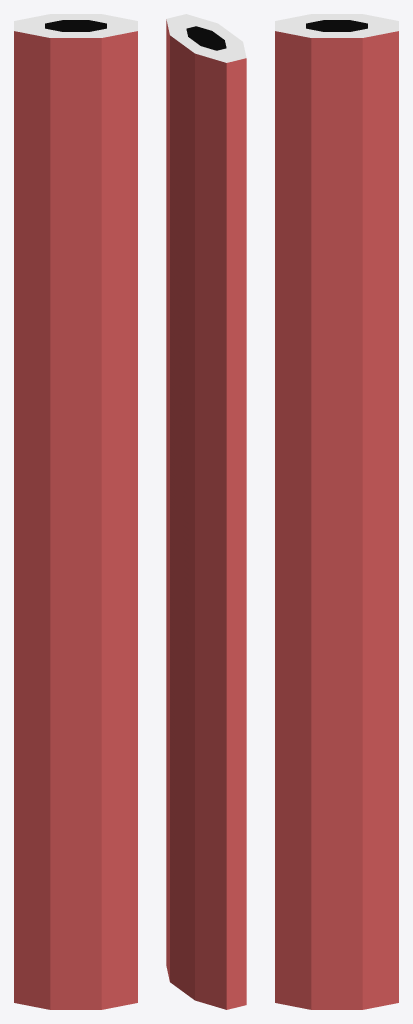
Rendered from pencil01.gltf.
3 views of the same model, side by side, from view 1: azimuth 90°, elevation 25°; view 2: azimuth 210°, elevation 25°; view 3: azimuth 270°, elevation 25° (orthographic). The views are drawn at different scales.
Parts seen in each view (by area): view 1: Cylinder; view 2: Cylinder; view 3: Cylinder.
Part boxes in pixels (<box>): Cylinder: <box>14,14,137,1009</box>; Cylinder: <box>166,14,246,1009</box>; Cylinder: <box>275,14,398,1009</box>.
Size of the model in its own units: 0.00656 by 0.1233 by 0.0142.
Materials: 1 (1 with a texture image).
